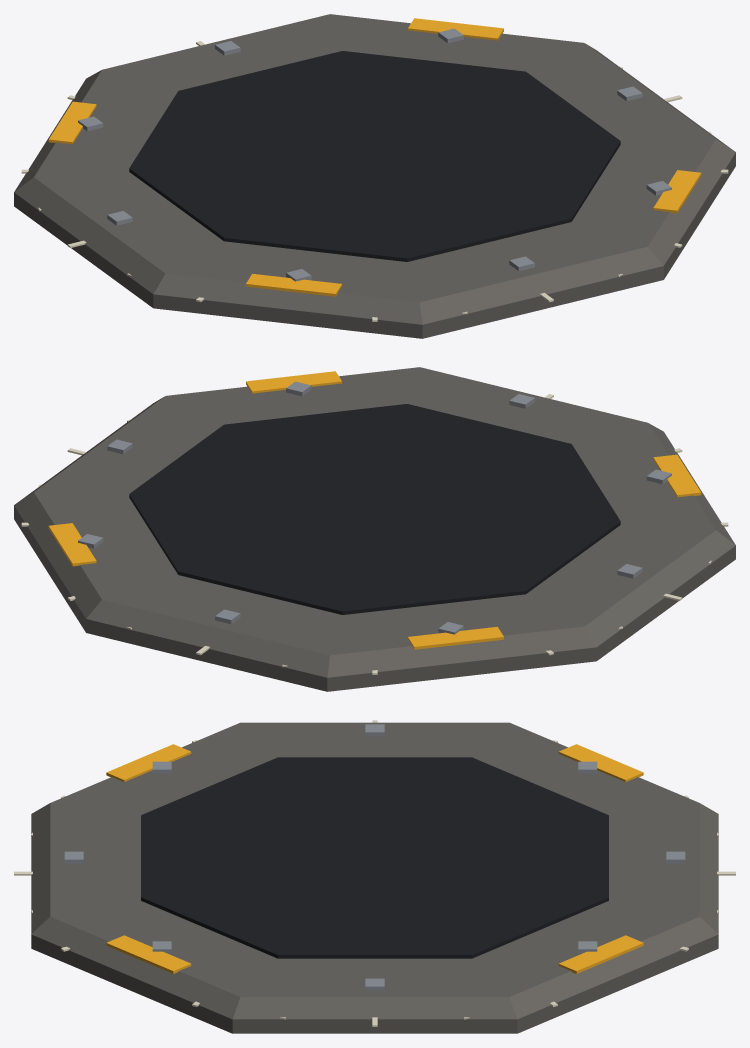
Rendered from pad.glb.
3 renders of one model, top to bottom at view 1: azimuth 30°, elevation 25°; view 2: azimuth 150°, elevation 25°; view 3: azimuth 270°, elevation 25°, orthographic. The views are drawn at different scales.
Parts seen in each view (by area): view 1: pad_mesh; view 2: pad_mesh; view 3: pad_mesh.
Part boxes in pixels (x1,y1,x2,y2): pad_mesh: (14,14,735,338); pad_mesh: (14,367,735,691); pad_mesh: (14,720,735,1033).
Size of the model in its own units: 4.56 by 0.23 by 4.56.
